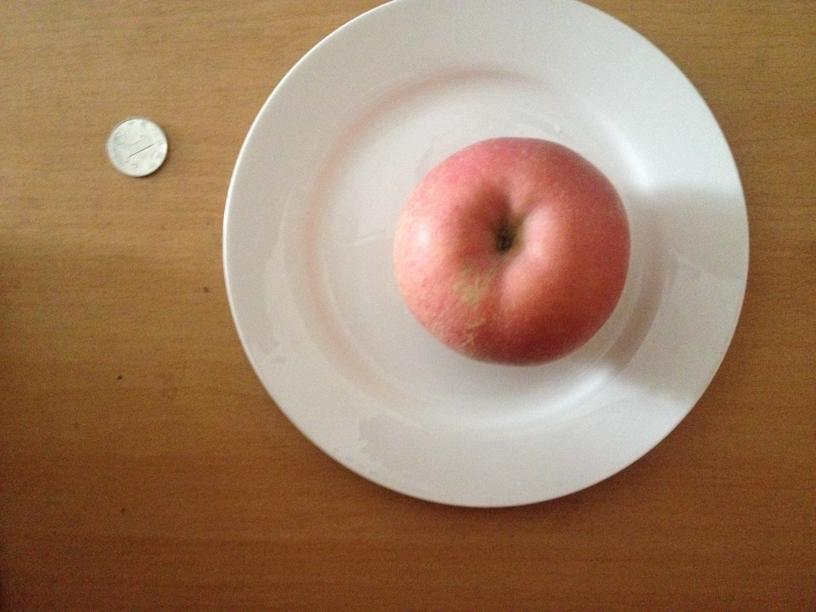apple: (395, 137, 629, 367)
coin: (103, 118, 170, 179)
